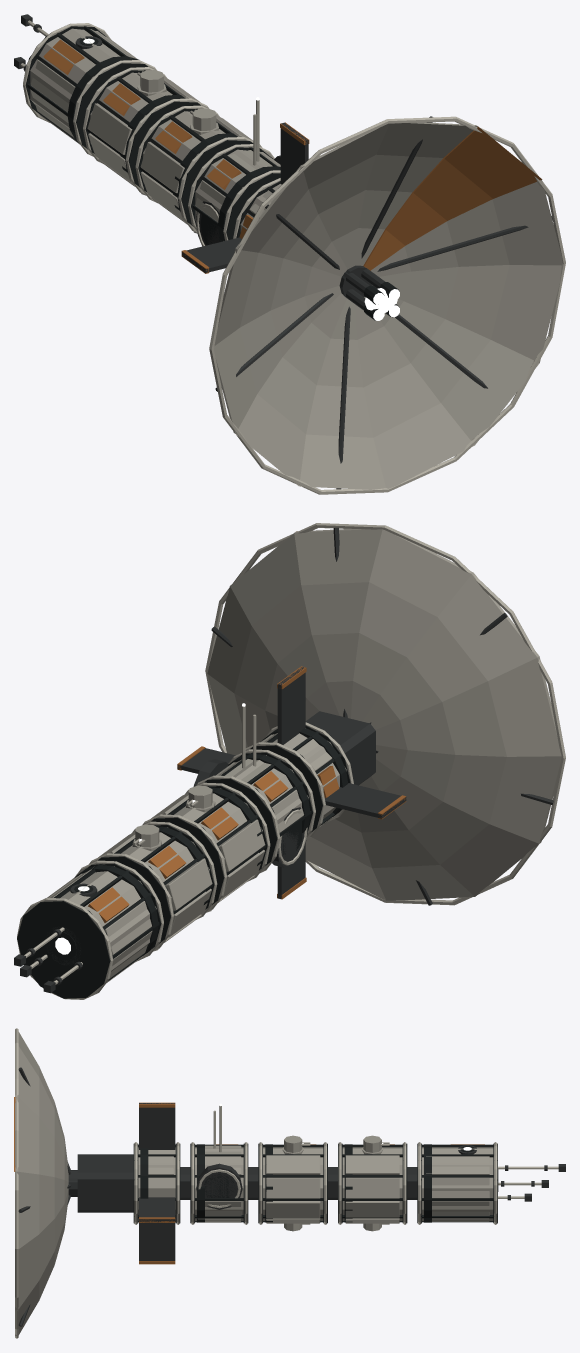
3 views of the same model, one above another, from view 1: azimuth 30°, elevation 25°; view 2: azimuth 150°, elevation 25°; view 3: azimuth 270°, elevation 25° (orthographic). The views are drawn at different scales.
Parts seen in each view (by area): view 1: RIMWARD_HULL; view 2: RIMWARD_HULL; view 3: RIMWARD_HULL.
Part boxes in pixels (left/top/right/bottom): RIMWARD_HULL: left=14, top=14, right=565, bottom=494; RIMWARD_HULL: left=14, top=523, right=565, bottom=999; RIMWARD_HULL: left=14, top=1028, right=565, bottom=1338.
Bounding box in the file's own units: 9.32 × 9.32 × 16.55.
